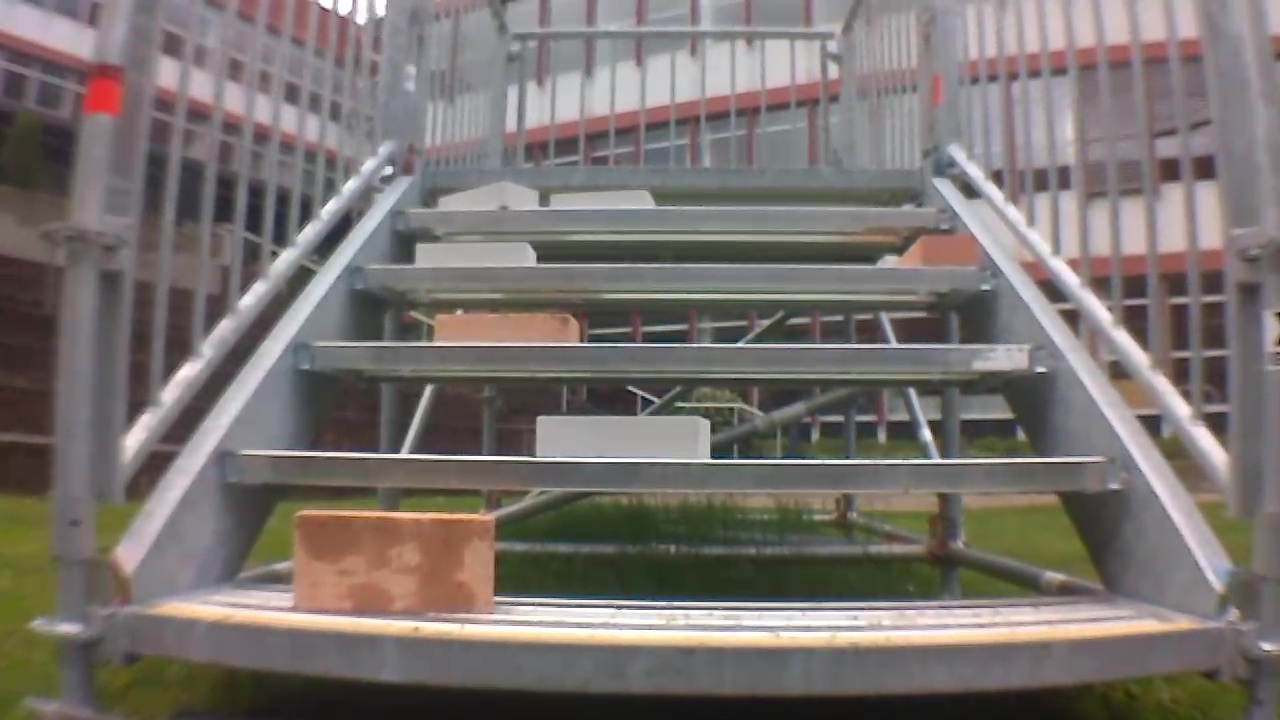brick: (293, 510, 491, 613), (535, 415, 709, 458), (435, 314, 579, 343), (416, 242, 534, 266), (441, 182, 538, 208), (904, 235, 977, 268), (550, 191, 652, 207)
edge: (132, 611, 1226, 693), (223, 452, 1134, 490), (297, 343, 1055, 372), (354, 265, 1002, 291), (394, 210, 956, 231), (423, 168, 924, 186)
stairs: (33, 2, 1276, 717)
steps: (127, 165, 1237, 701)
